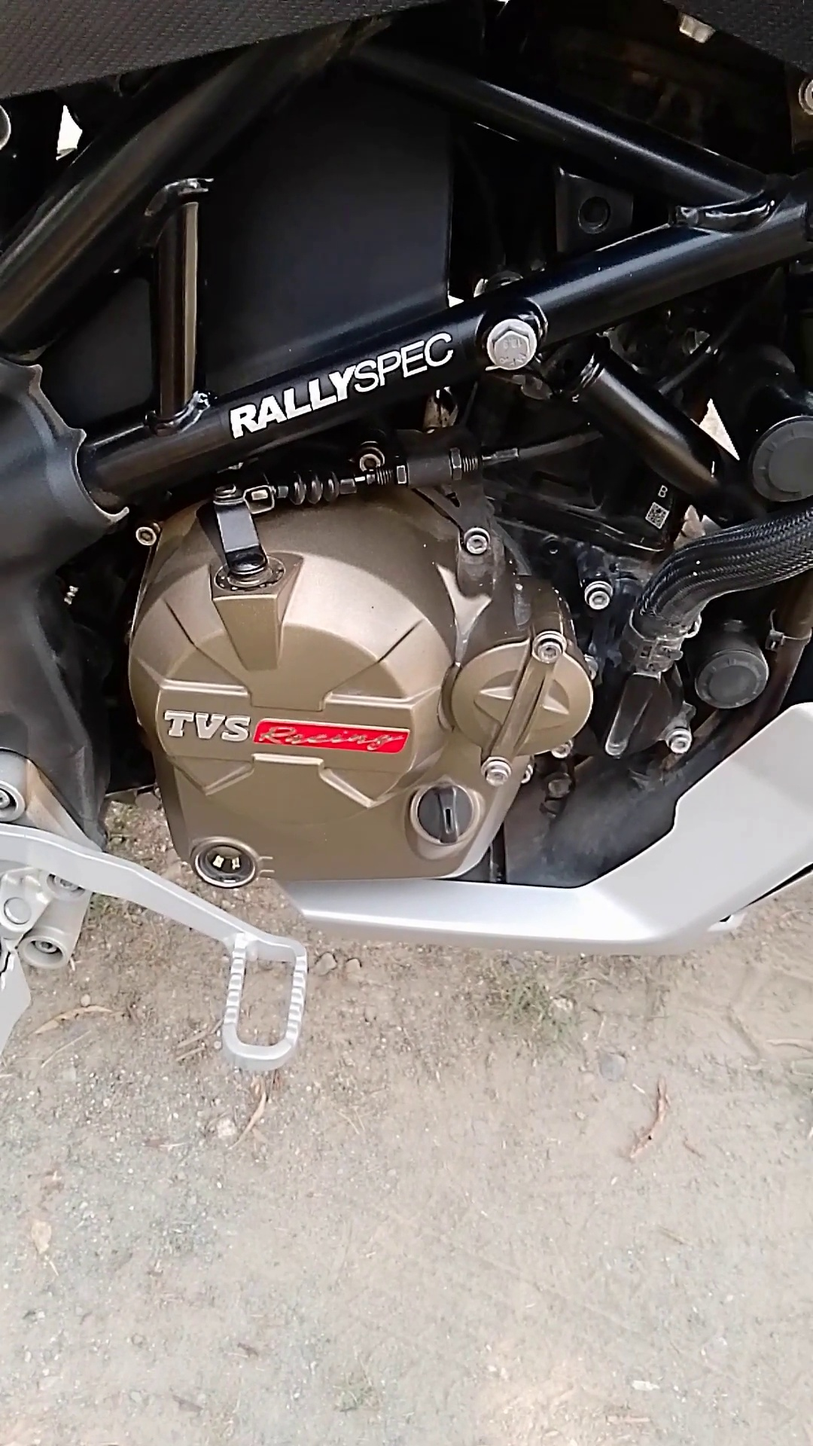bike-engine: (126, 476, 605, 882)
bike-engine-level: (194, 823, 269, 880)
bike-oil-cap: (397, 775, 489, 860)
